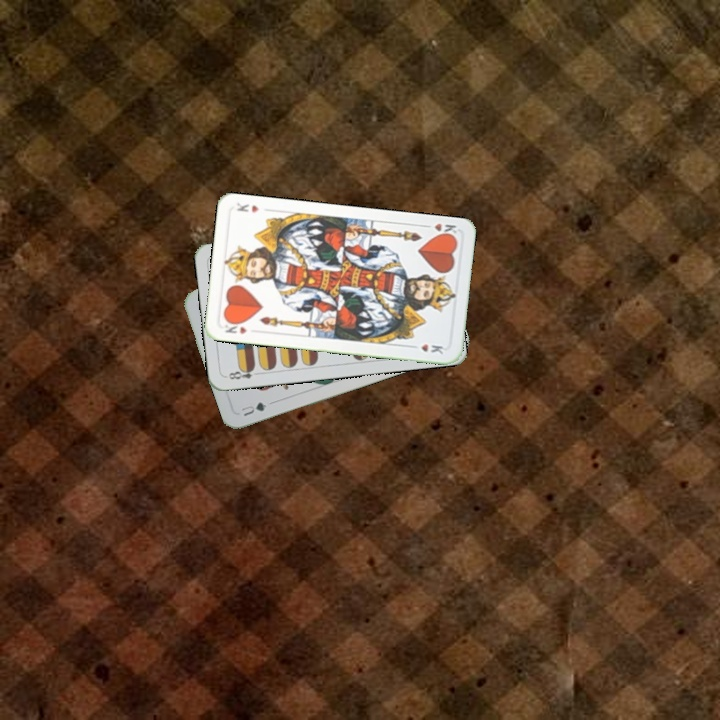E8: (225, 363, 263, 382)
GU: (236, 398, 269, 419)
HK: (419, 219, 460, 240), (220, 317, 249, 337)
